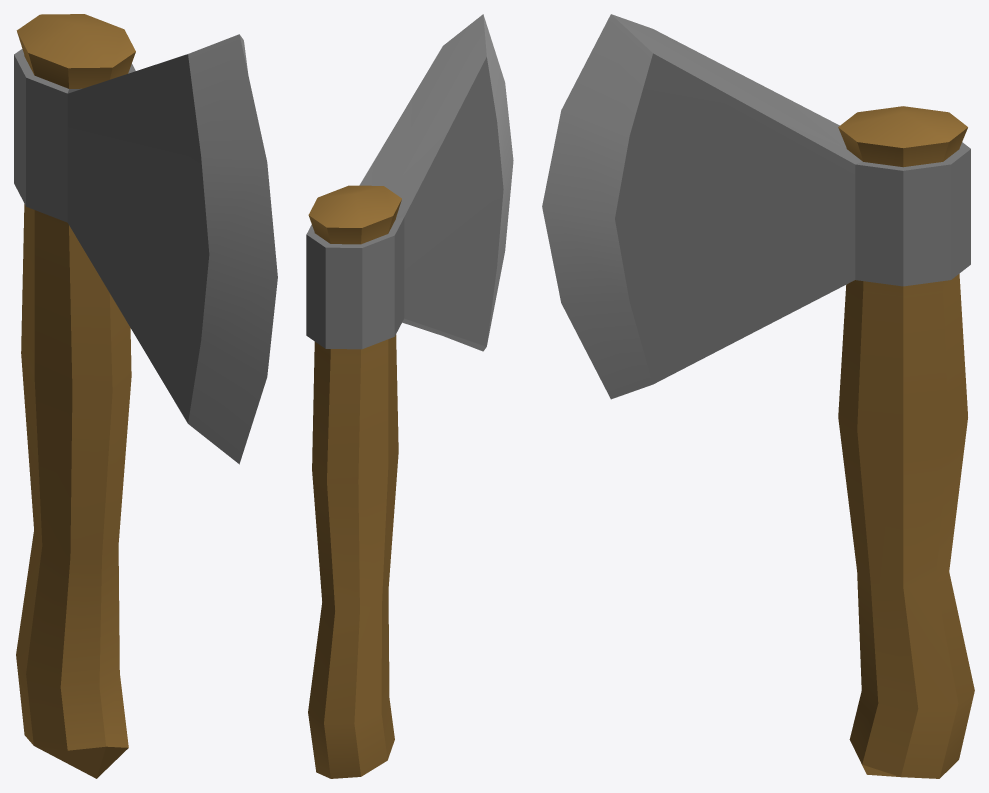
Rendered from Axe.fbx.
The picture shows the model from 3 angles, left to right: view 1: azimuth 30°, elevation 25°; view 2: azimuth 150°, elevation 25°; view 3: azimuth 270°, elevation 25°; orthographic projection. The views are drawn at different scales.
Visible parts, largest first — view 1: Cube.001; view 2: Cube.001; view 3: Cube.001.
Part boxes in pixels (x1,y1,x2,y2): Cube.001: (14, 14, 277, 778); Cube.001: (306, 14, 513, 778); Cube.001: (542, 14, 974, 778).
Size of the model in its own units: 240 by 1939 by 1000.
